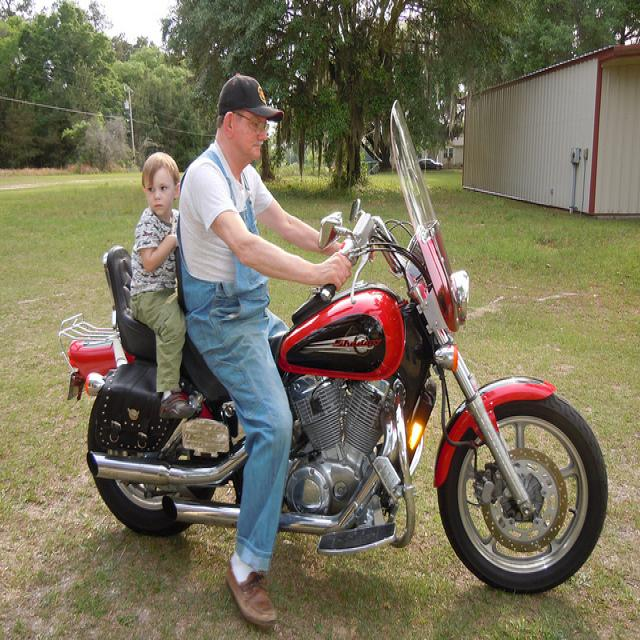motor: (55, 102, 612, 600)
